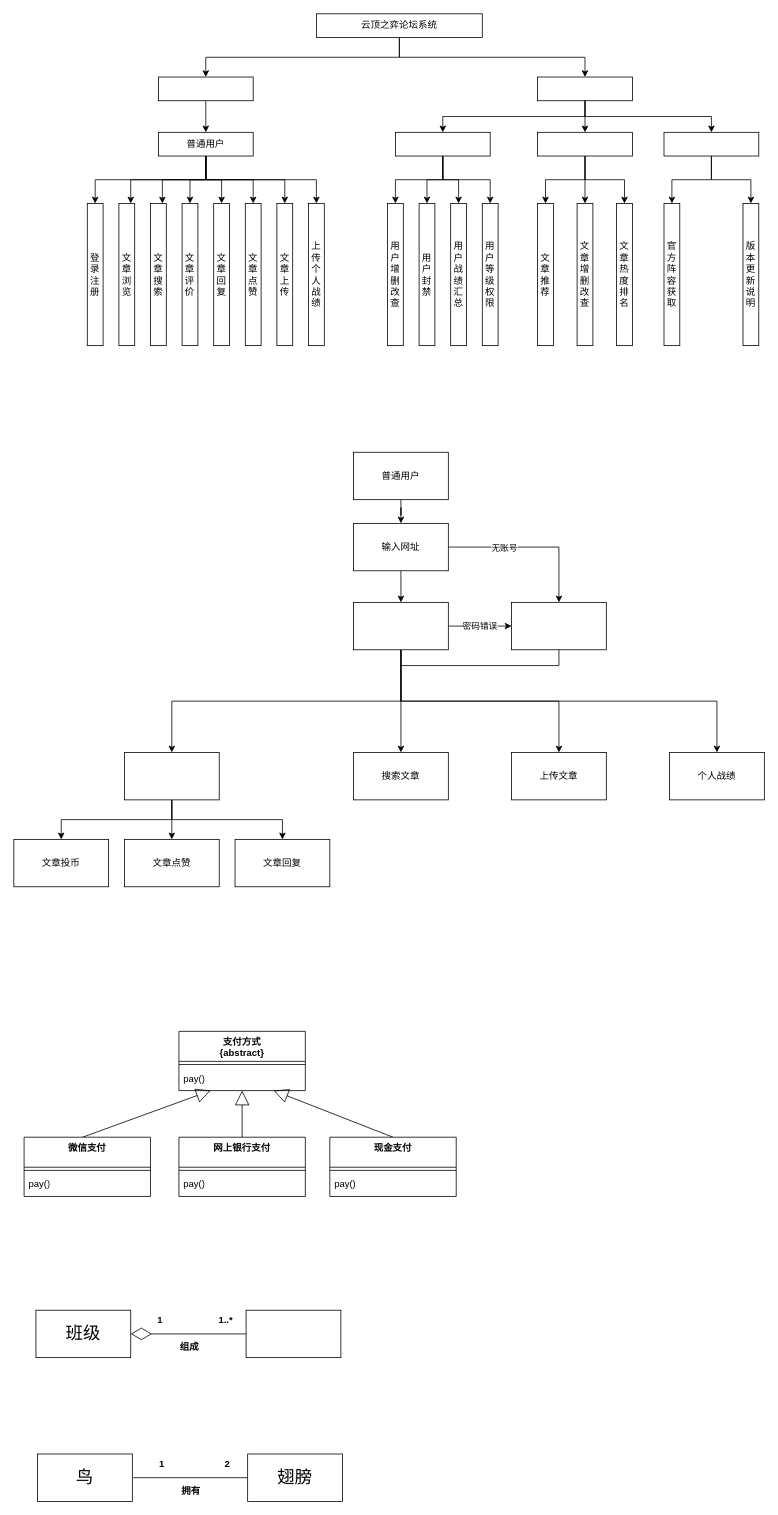
Image size: 778x1515. Some labels were removed from this diagram. The shapes that lost their labels are listed below. From the top down, each one's centre as x and y in pixels, then its label:
At point 205,88: "前台".
At point 584,88: "后台".
At point 442,144: "用户管理".
At point 584,144: "文章管理".
At point 711,144: "官方信息获取".
At point 400,626: "登录".
At point 558,626: "注册".
At point 171,776: "浏览文章".
At point 293,1333: "学生".
